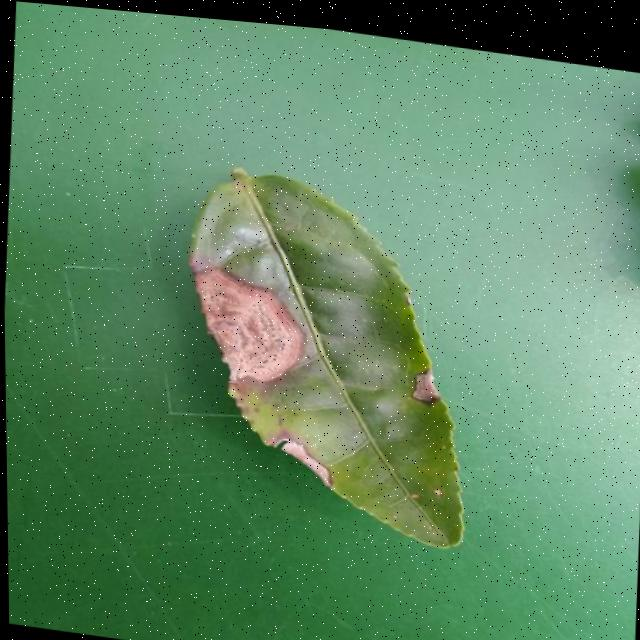Tea cloud leaf blight: (179, 258, 315, 392)
